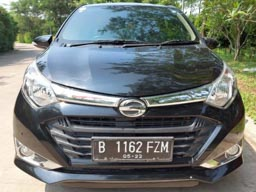plat: (93, 138, 171, 153)
